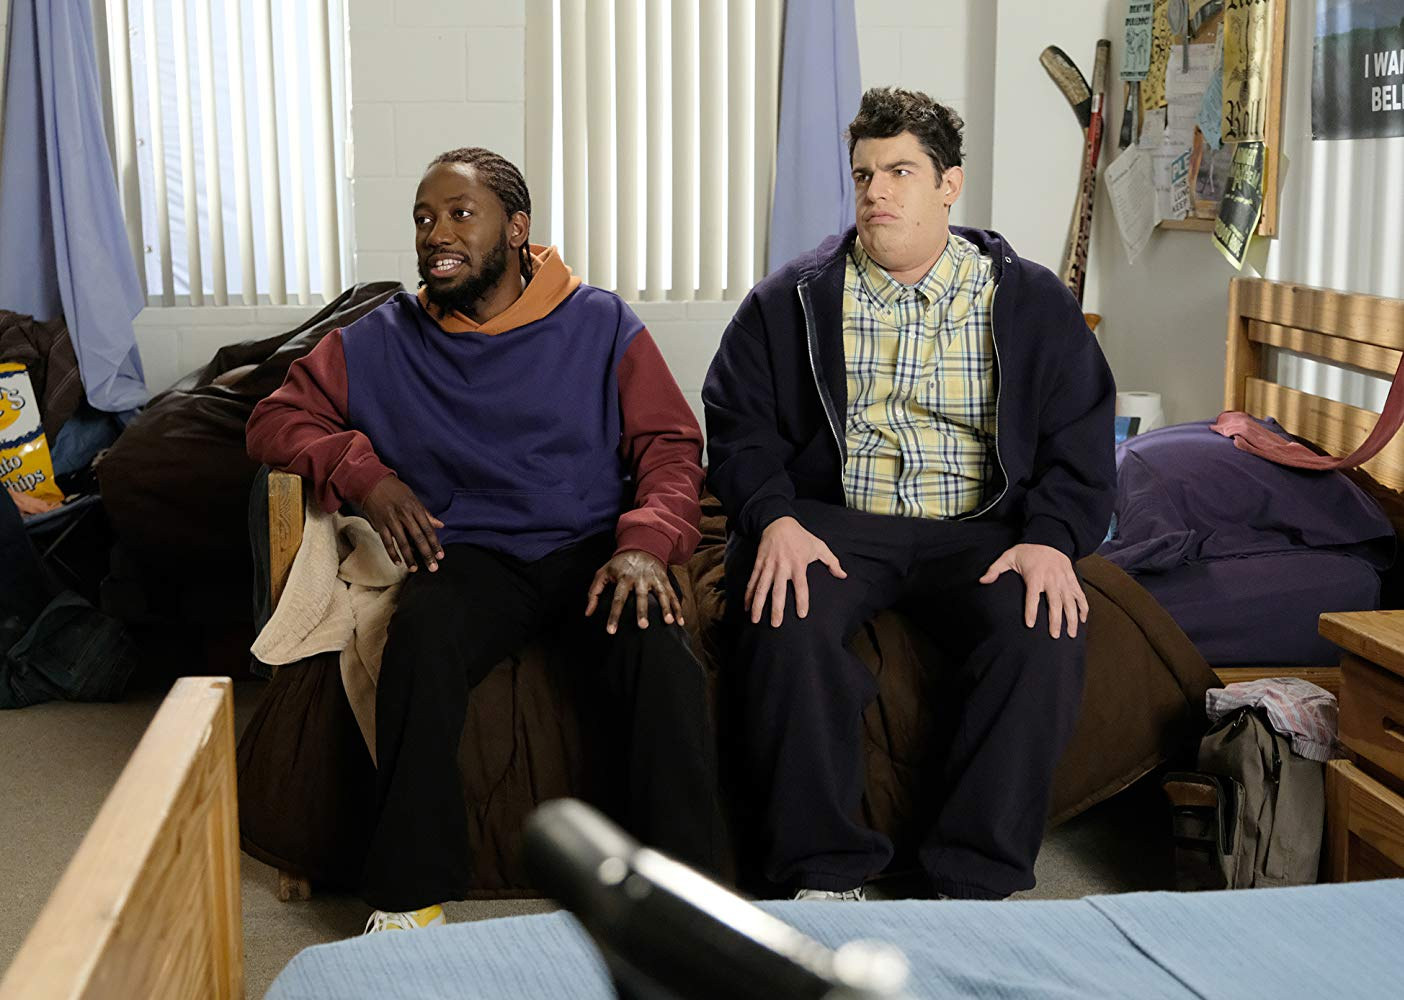person: (230, 147, 725, 895), (713, 84, 1083, 899)
